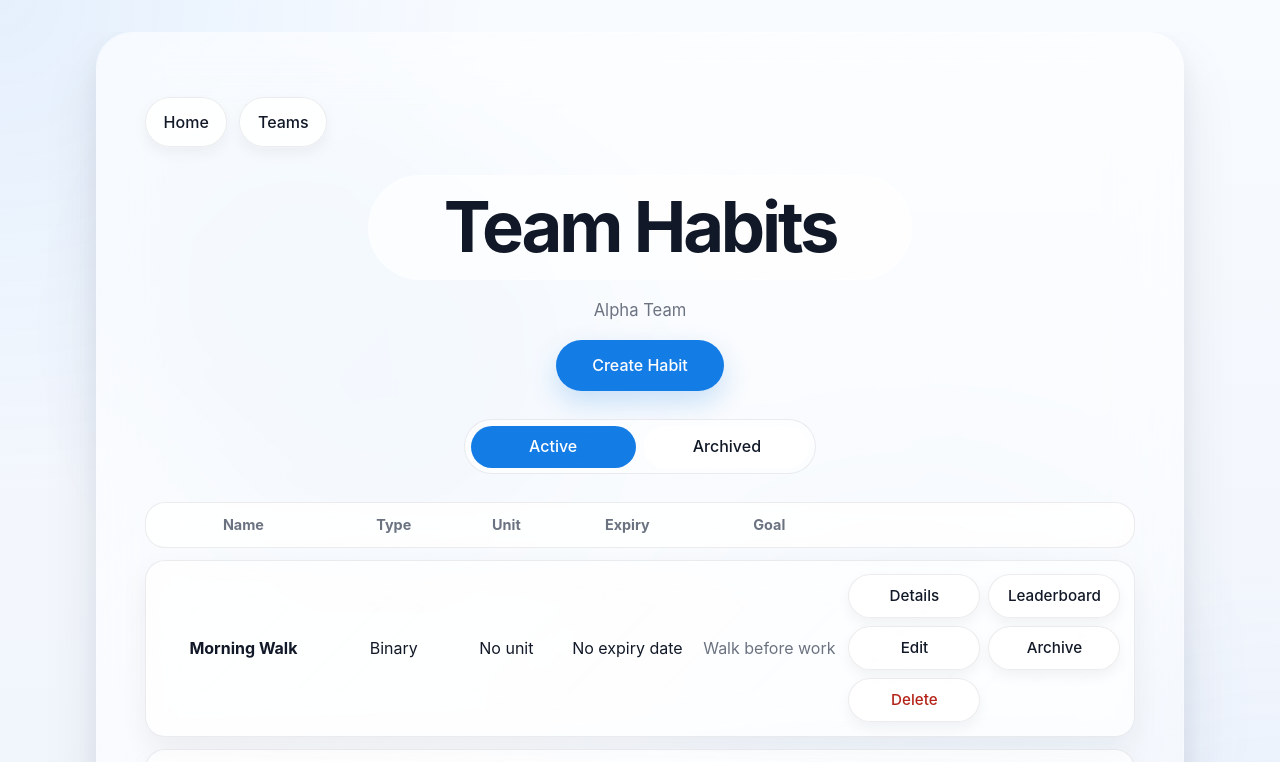
it: deletes a habit and removes it from the list
Expected: the text "Morning Walk" is shown, [189,638,298,658]
Click the button "Delete": (914, 700) [848,678,980,722]
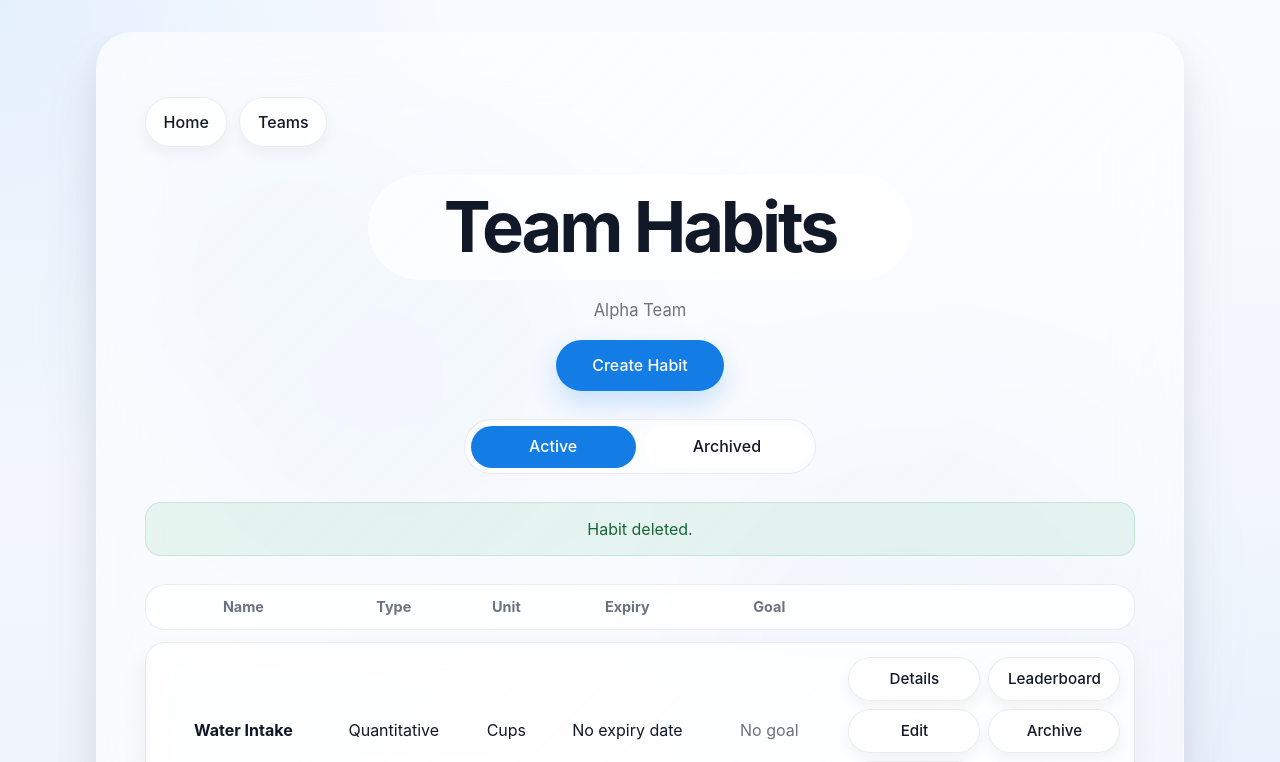
Expected: the text "Morning Walk" is gone
Expected: the text "Habit deleted." is shown, [145,502,1135,556]
